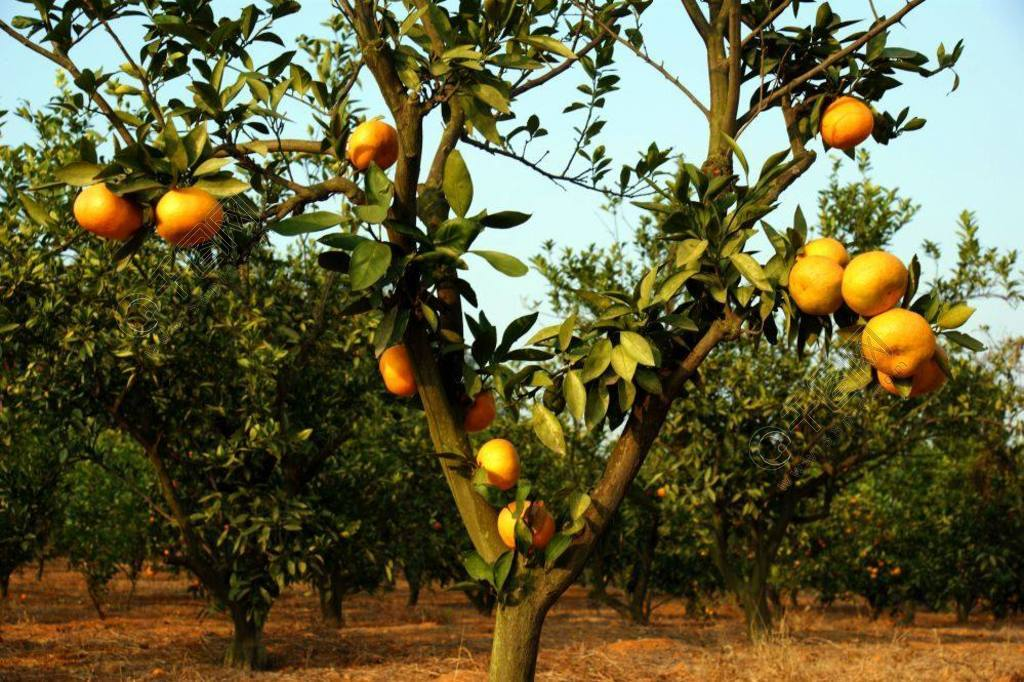orange: (878, 330, 946, 396), (863, 308, 929, 374), (841, 248, 908, 312), (152, 184, 224, 242), (76, 183, 142, 239), (344, 119, 402, 173), (788, 254, 842, 310), (499, 499, 553, 549), (821, 96, 875, 146), (378, 343, 427, 397), (450, 379, 496, 431), (476, 437, 522, 489), (797, 238, 842, 279)
